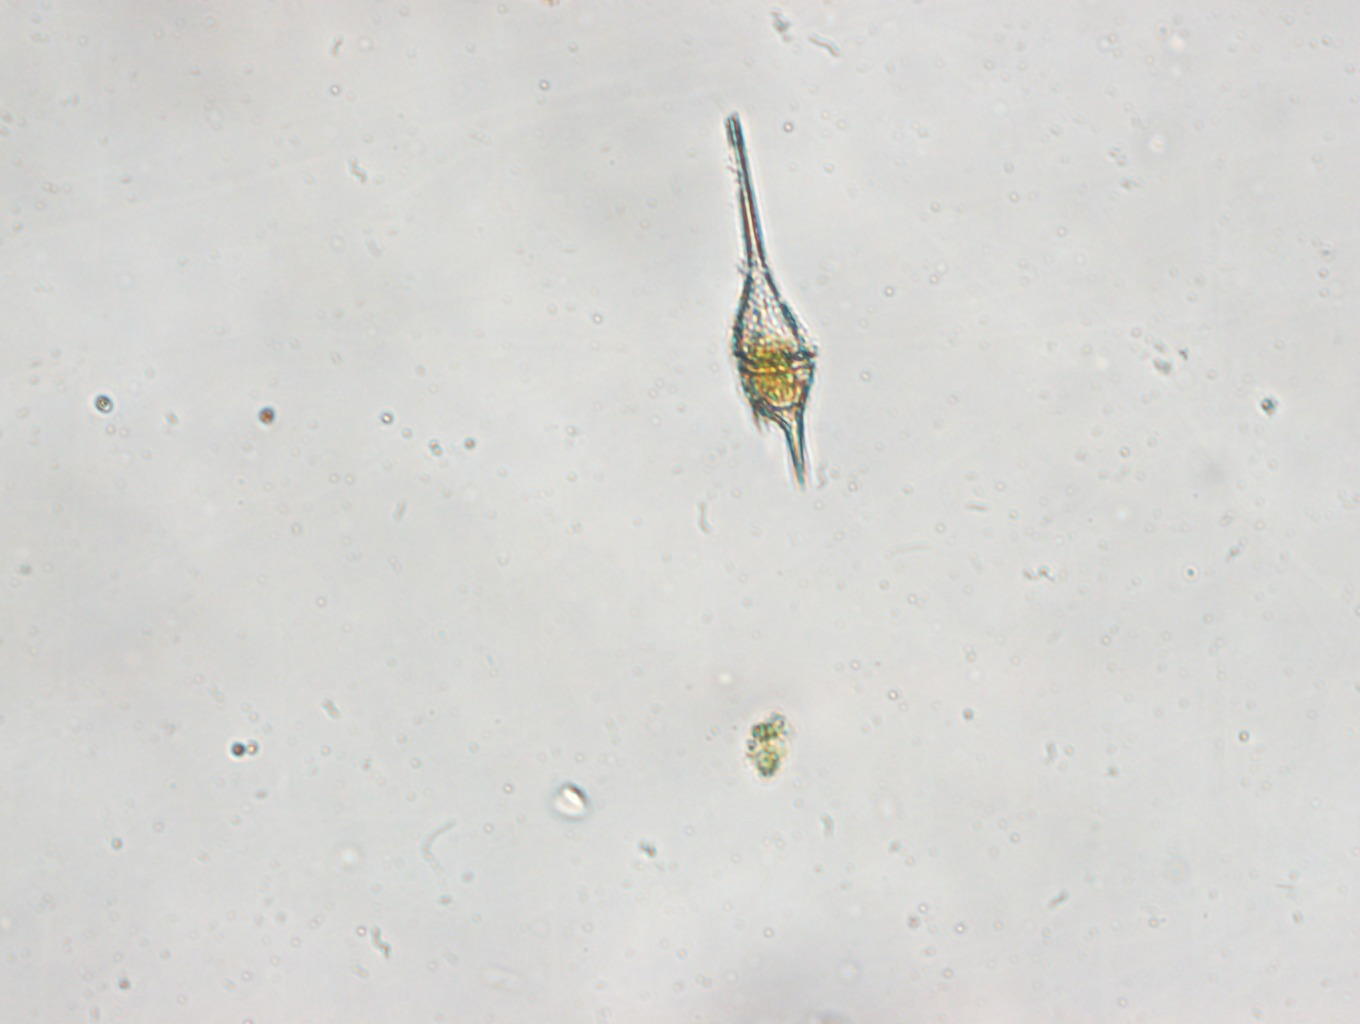ceratium furca: (716, 105, 824, 489)
